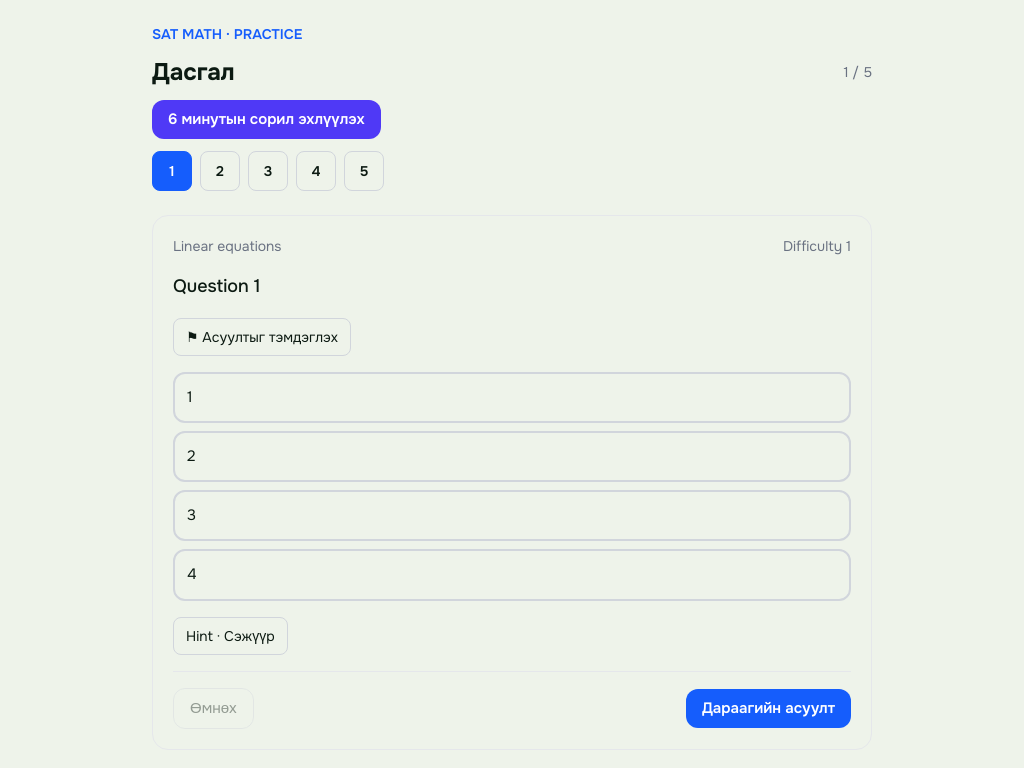
Test: PracticePlayer timed mode › manual finish shows results and stops the countdown
Click the button "6 минутын сорил эхлүүлэх": (266, 120) [152,100,381,139]
Wait 2000 ms
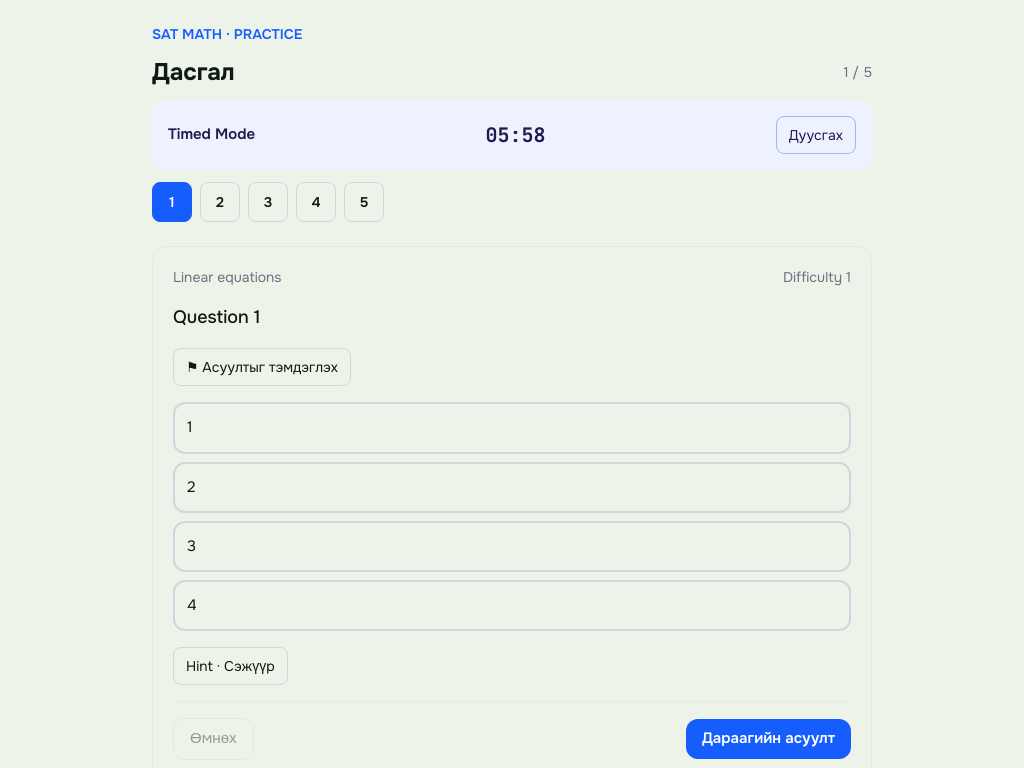
Expected: the text "05:58" is shown, [485,121,545,149]
Click the button "Дуусгах": (816, 135) [776,116,856,154]
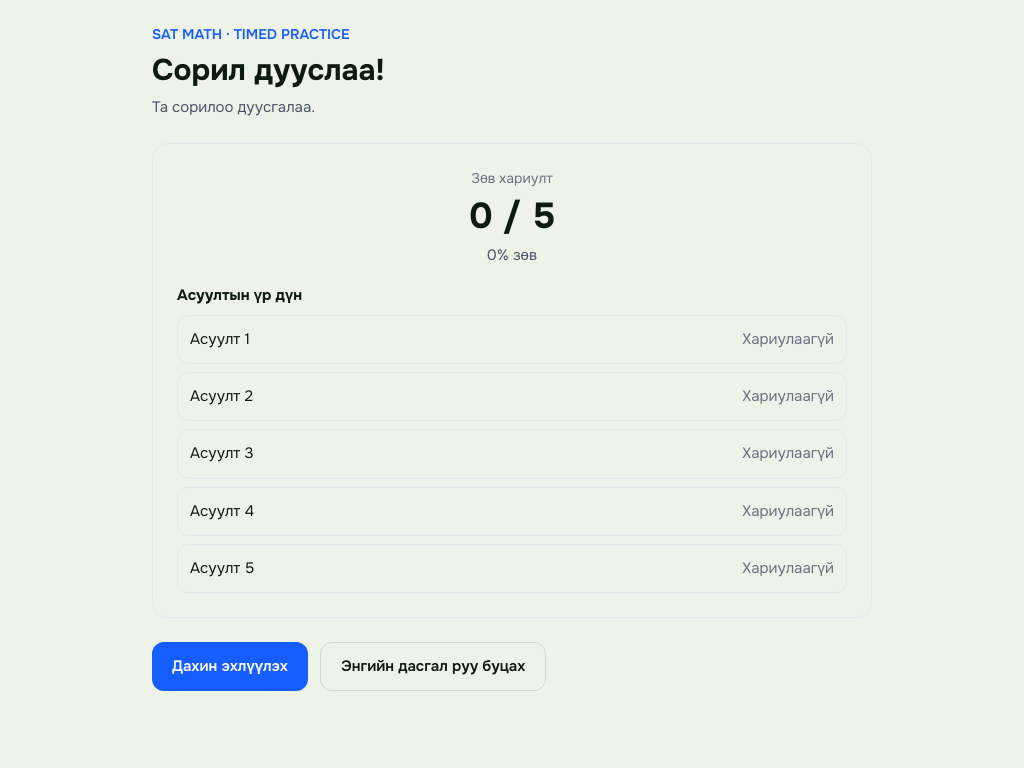
Expected: the heading "Сорил дууслаа!" is shown, [152,51,385,89]
Expected: the text "Та сорилоо дуусгалаа." is shown, [152,97,315,117]
